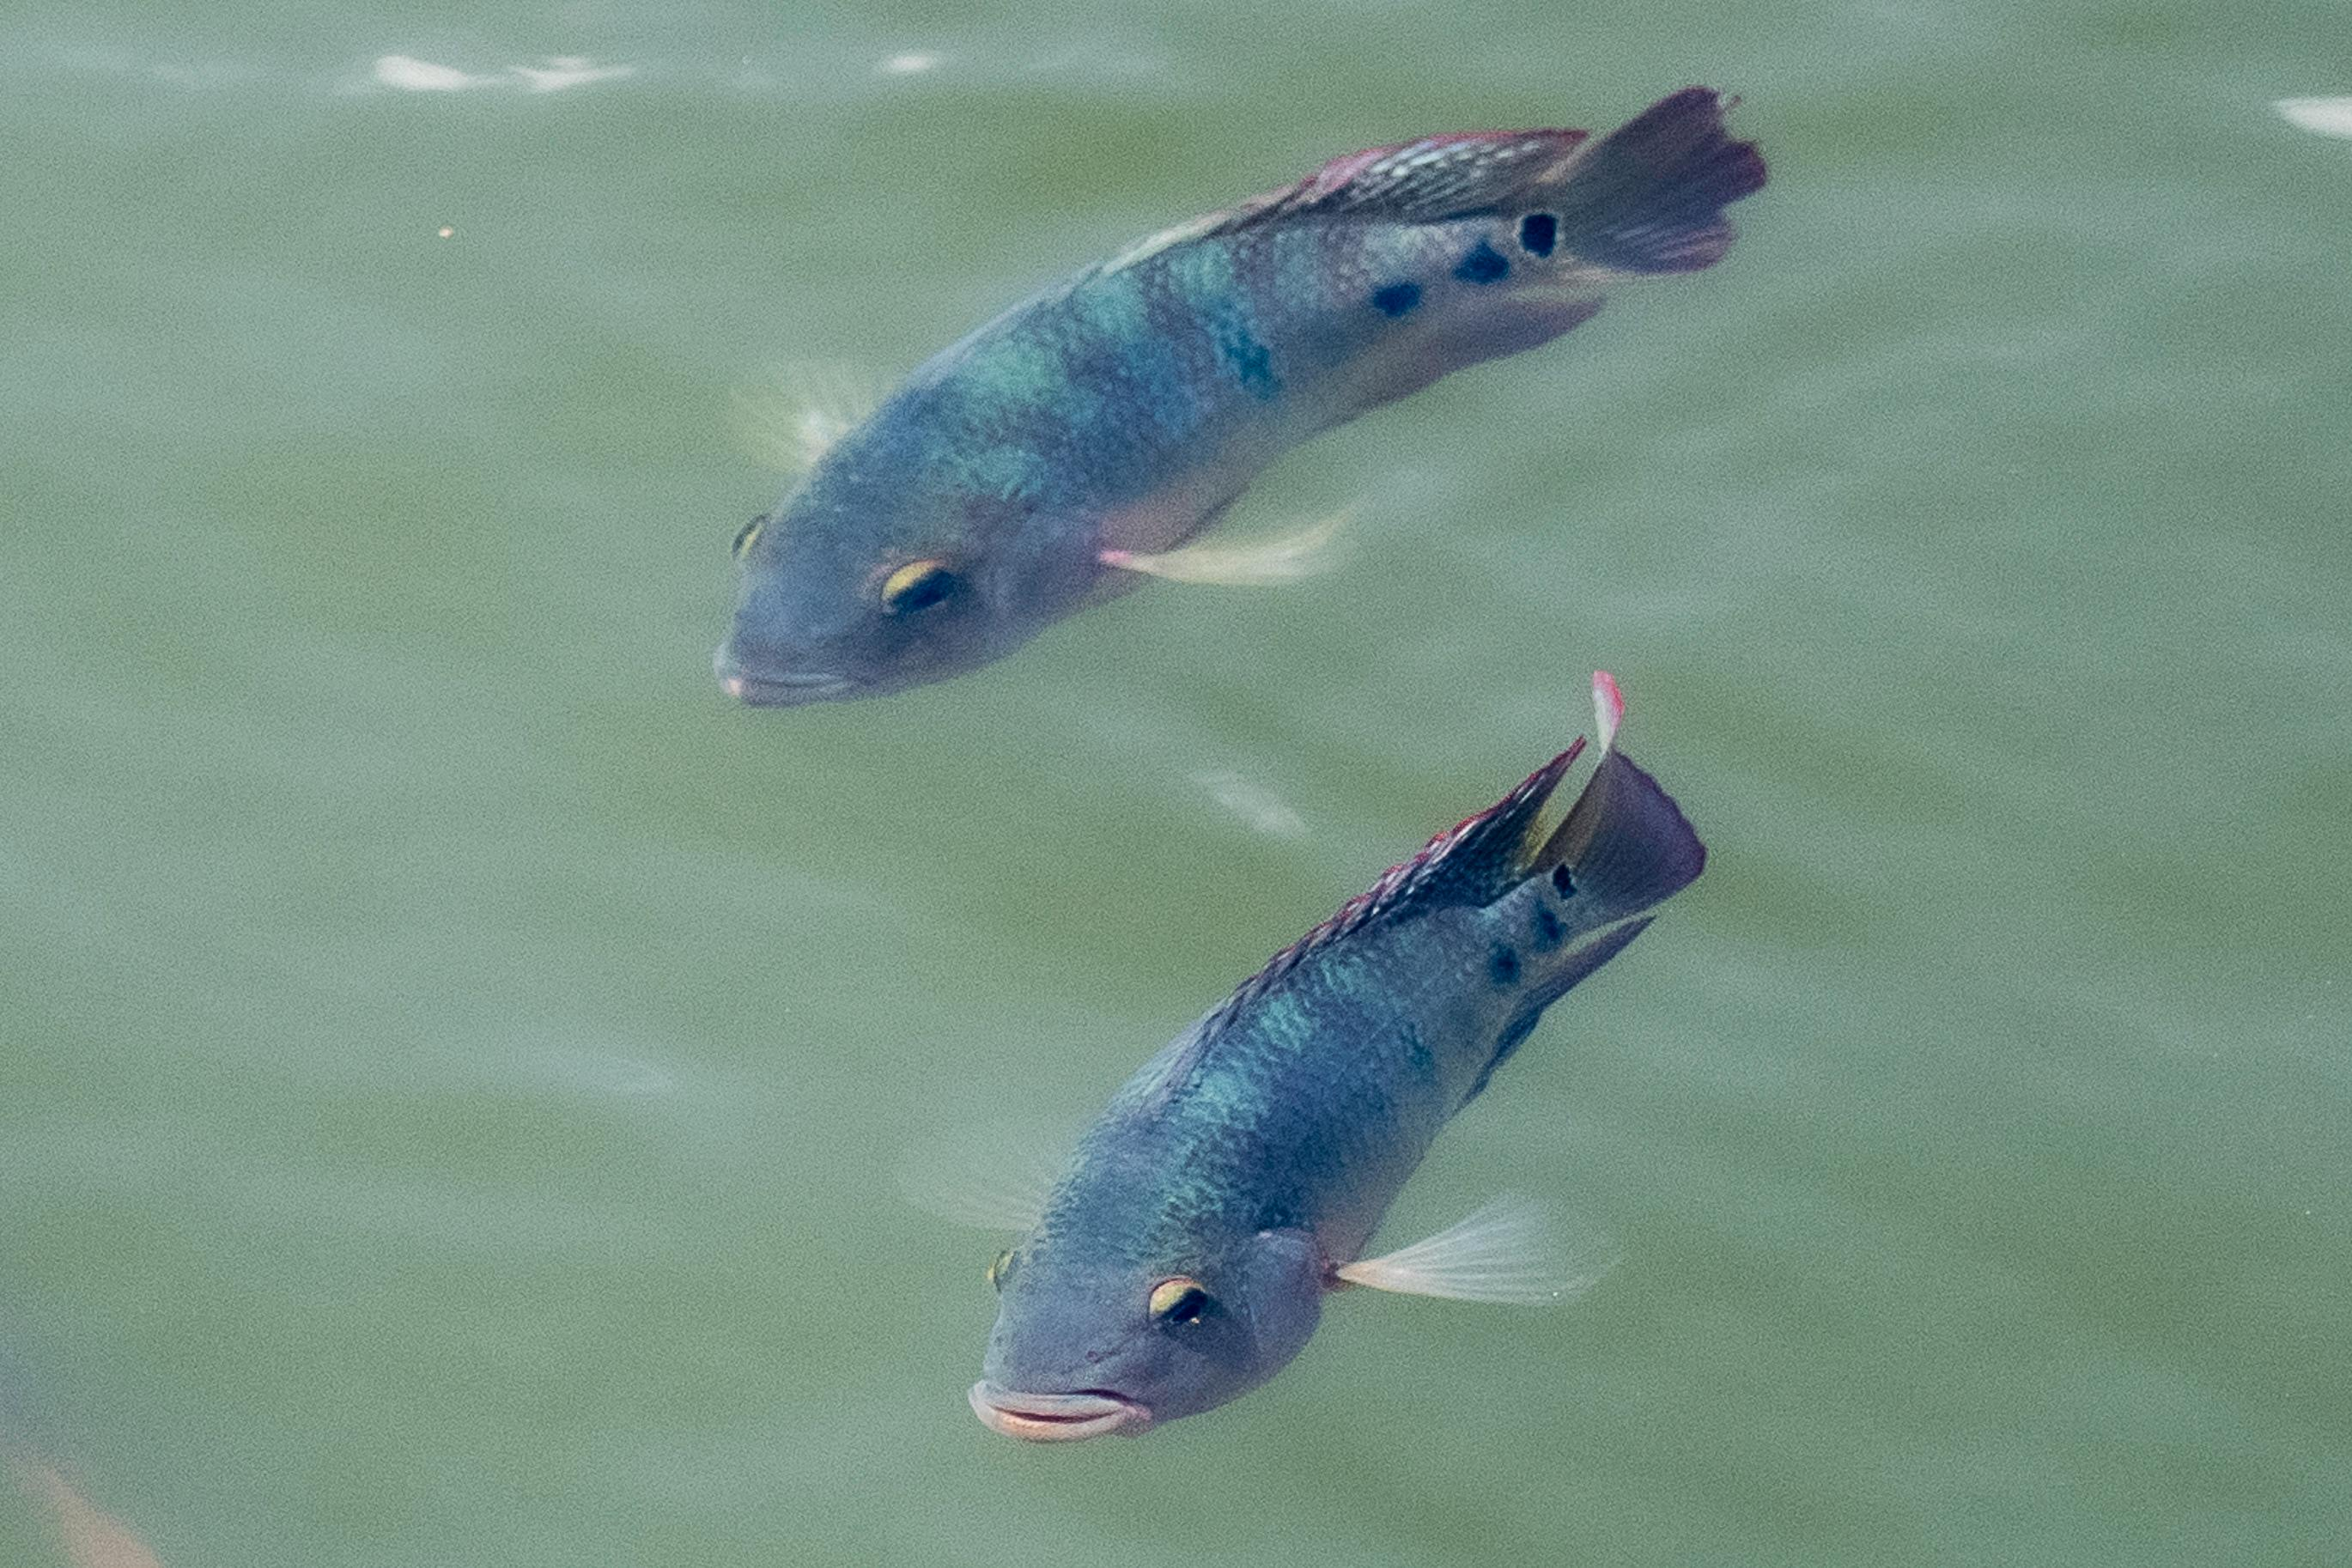fishSmall: (703, 79, 1769, 710), (906, 733, 1708, 1447)
